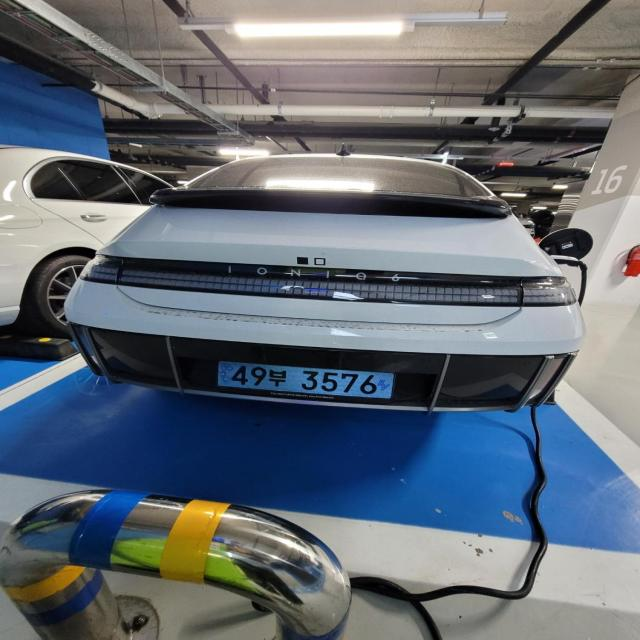EV_plate: (216, 353, 401, 412)
car: (64, 148, 597, 427)
